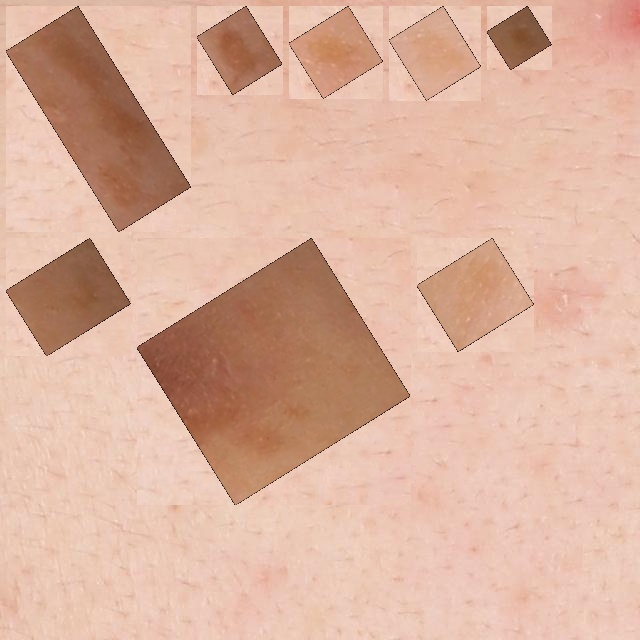melasma: (148, 249, 399, 494), (17, 17, 180, 221), (17, 249, 120, 345), (428, 249, 523, 340), (300, 17, 372, 87), (400, 17, 470, 89), (208, 17, 271, 83), (498, 17, 541, 59)
